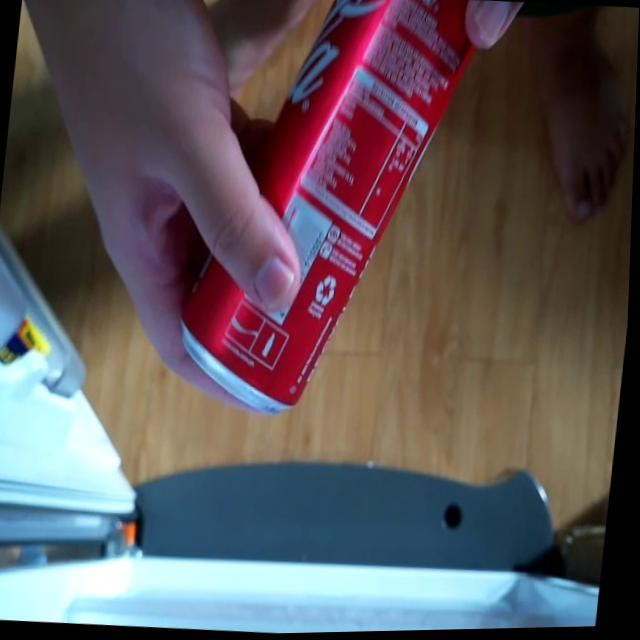coke: (166, 0, 486, 432)
